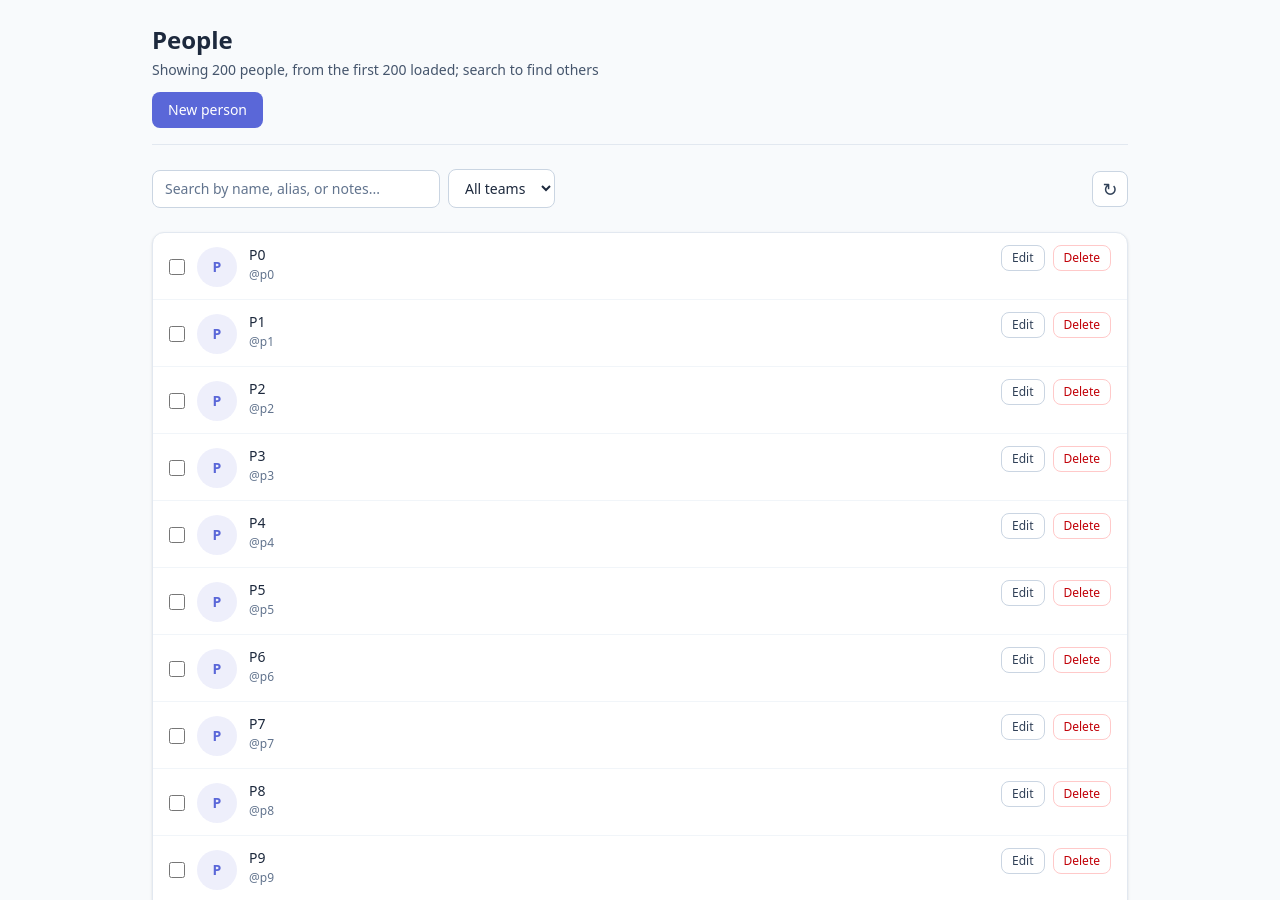
Scenario: PeopleManagement list states › says the list was capped even when a team filter leaves fewer people
Step 1. Select "Core" in the dropdown named "Team" → (502, 188), box [448,169,555,208]
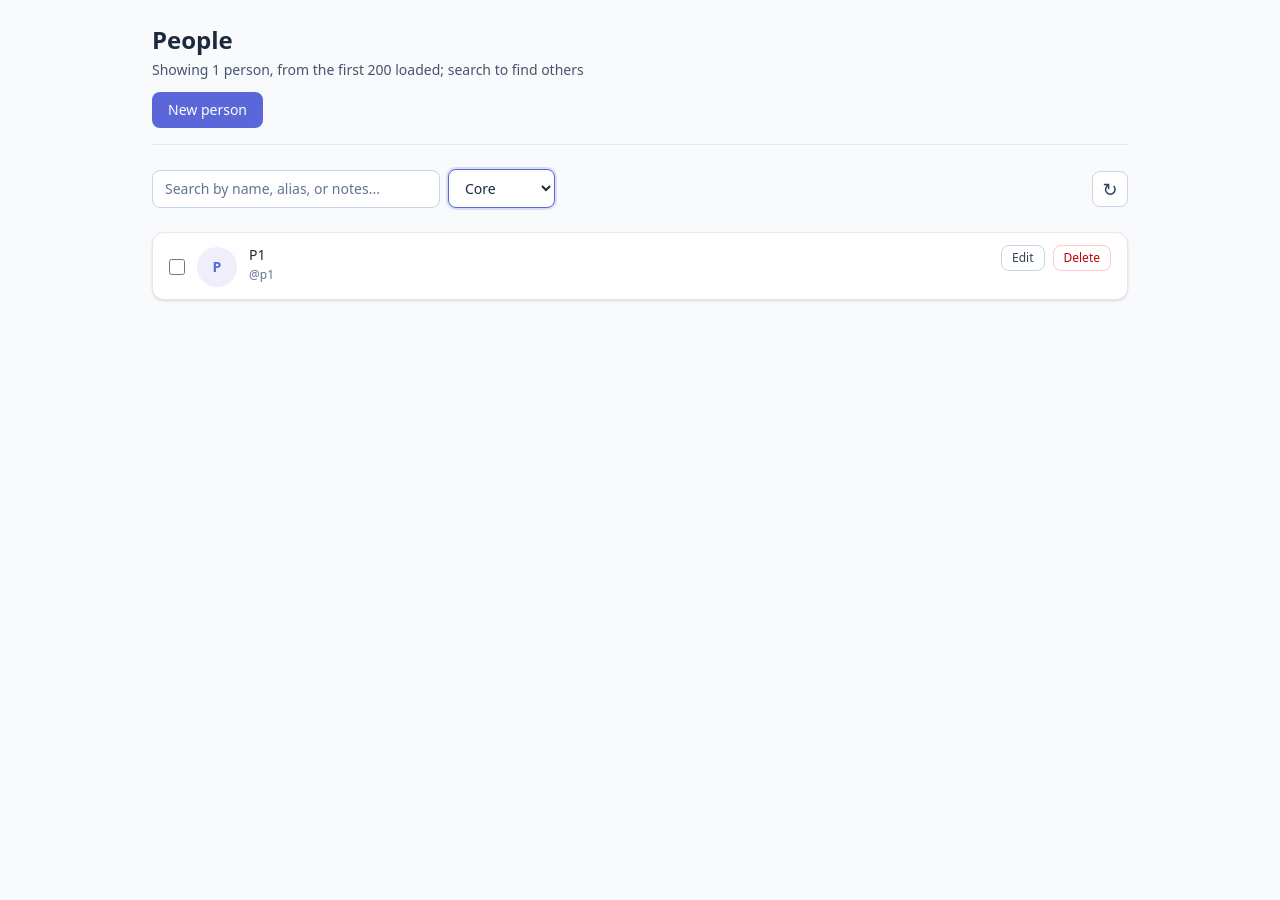
Now the text "Showing 1 person, from the first 200 loaded" is shown, box [152,60,584,79]
